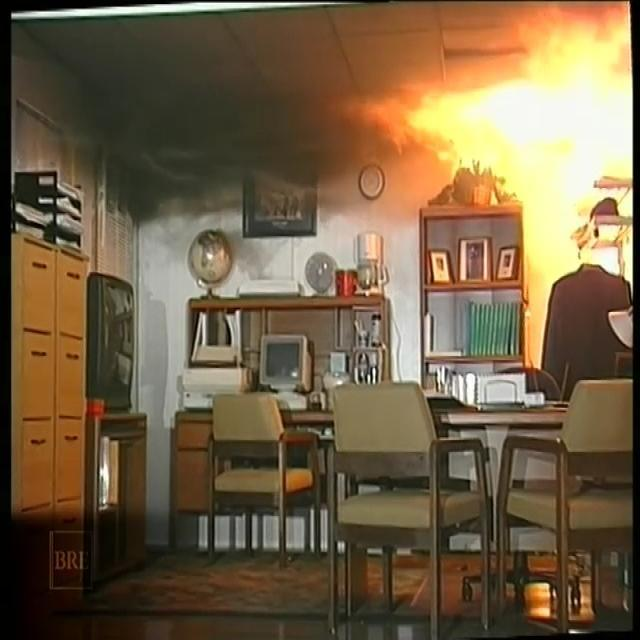Fire: (268, 0, 640, 407)
